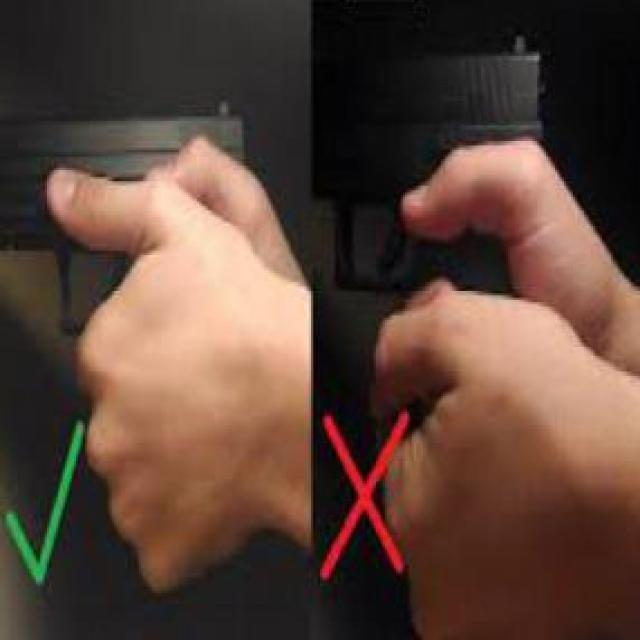pistol: (309, 20, 554, 335), (0, 89, 246, 347)
